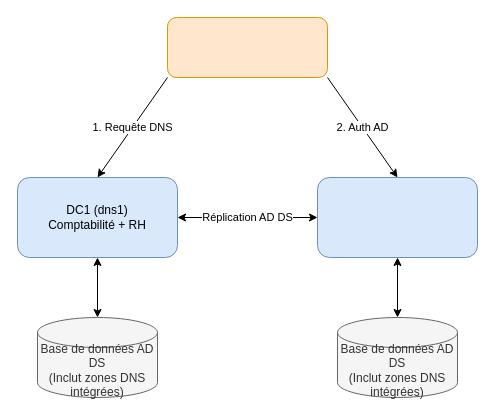
Image size: 495x416. Some labels were removed from this diagram. Here are the shapes that lost their labels. From the top down, the centre of each, then its label:
(247,47): PC Client pc-compta.comptabilite.computerelectronics.be
(397,217): DC2 (dns2) Ventes
